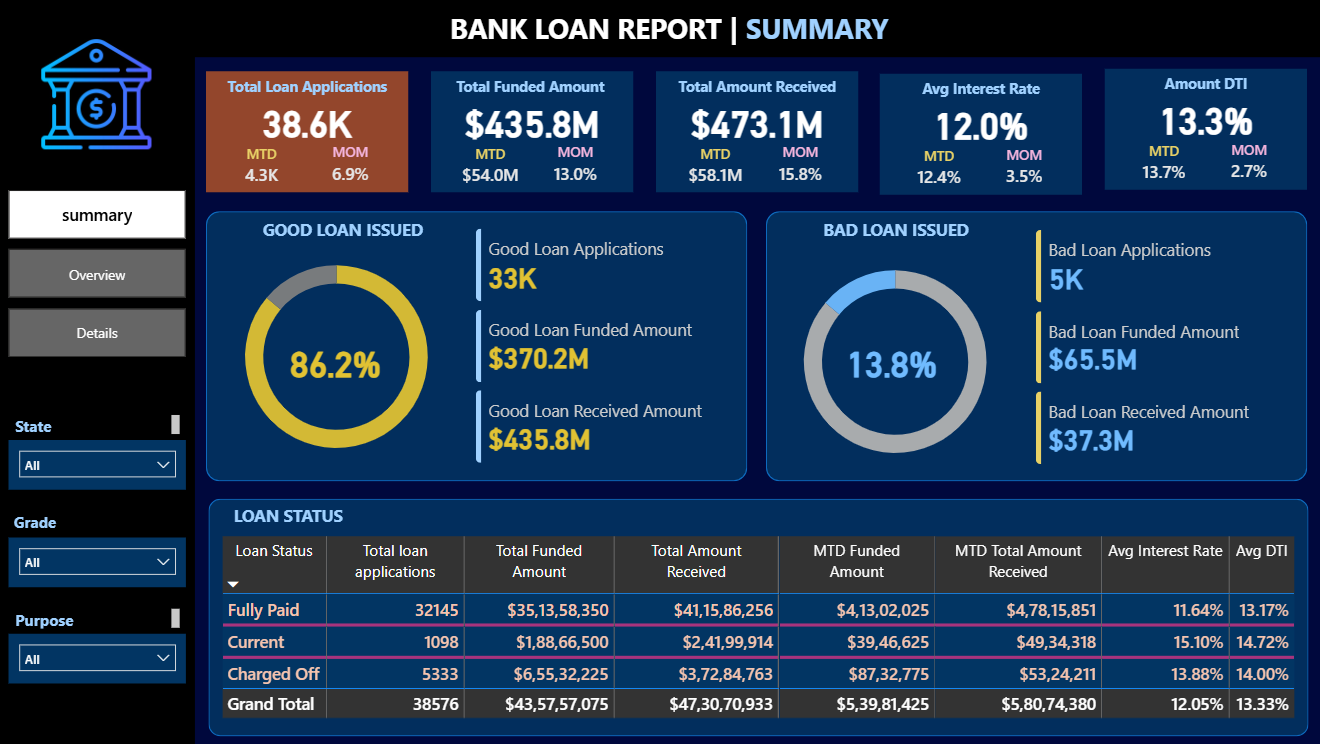

This screenshot's page, from the dashboard's own definition file:
{"tool":"powerbi","page":{"name":"summary","canvas":[1280,720],"ordinal":0},"visuals":[{"type":"textbox","box":[0,54.9,192,665],"z":0},{"type":"textbox","box":[0,0,1280,55.5],"z":1000},{"type":"textbox","box":[433.1,3.6,441.6,47.1],"z":2000},{"type":"textbox","box":[1070.1,66.4,195.4,117],"z":3000,"group":"g5"},{"type":"group","id":"g1","title":"Group 1","box":[202.7,68.8,195.4,117],"z":3000},{"type":"textbox","box":[202.7,68.8,195.4,117],"z":3000,"group":"g1"},{"type":"textbox","box":[419.5,68.8,195.4,117],"z":3000,"group":"g2"},{"type":"textbox","box":[636.4,68.8,195.4,117],"z":3000,"group":"g4"},{"type":"textbox","box":[853.3,71.2,195.4,117],"z":3000,"group":"g3"},{"type":"group","id":"g2","title":"Group 1","box":[419.5,68.8,195.4,117],"z":4000},{"type":"card","fields":{"Values":["bank_loan_data.Avg DTI"]},"box":[1070.1,91.7,195.4,45.8],"z":4000,"group":"g5"},{"type":"card","fields":{"Values":["bank_loan_data.Total loan applications"]},"box":[202.7,94.1,195.4,45.8],"z":4000,"group":"g1"},{"type":"card","fields":{"Values":["bank_loan_data.Total Funded Amount"]},"box":[419.5,94.1,195.4,45.8],"z":4000,"group":"g2"},{"type":"card","fields":{"Values":["bank_loan_data.Total Amount Received"]},"box":[636.4,94.1,195.4,45.8],"z":4000,"group":"g4"},{"type":"card","fields":{"Values":["bank_loan_data.Avg Interest Rate"]},"box":[853.3,96.5,195.4,45.8],"z":4000,"group":"g3"},{"type":"textbox","box":[1070.1,66.4,195.4,30.2],"z":5000,"group":"g5"},{"type":"textbox","box":[202.7,68.8,195.4,30.2],"z":5000,"group":"g1"},{"type":"textbox","box":[419.5,68.8,195.4,30.2],"z":5000,"group":"g2"},{"type":"textbox","box":[636.4,68.8,195.4,30.2],"z":5000,"group":"g4"},{"type":"textbox","box":[853.3,71.2,195.4,30.2],"z":5000,"group":"g3"},{"type":"shape","box":[202.7,203.9,522.4,260.6],"z":5000},{"type":"card","title":"MTD","fields":{"Values":["bank_loan_data.MTD AVG DTI"]},"box":[1091.7,136.7,71.2,45.8],"z":6000,"group":"g5"},{"type":"card","title":"MTD","fields":{"Values":["bank_loan_data.MTD Loan Applications"]},"box":[224.4,138.8,63.9,45.8],"z":6000,"group":"g1"},{"type":"card","title":"MTD","fields":{"Values":["bank_loan_data.MTD Funded Amount"]},"box":[441.1,139.1,71.2,45.8],"z":6000,"group":"g2"},{"type":"card","title":"MTD","fields":{"Values":["bank_loan_data.MTD Total Amount Recieved"]},"box":[658,139.1,71.2,45.8],"z":6000,"group":"g4"},{"type":"card","title":"MTD","fields":{"Values":["bank_loan_data.MTD Avg Interest Rate"]},"box":[874.9,141.5,71.2,45.8],"z":6000,"group":"g3"},{"type":"textbox","box":[12.4,488.6,170.1,30.2],"z":6000},{"type":"card","title":"MOM","fields":{"Values":["bank_loan_data.MOM AVG DTI"]},"box":[1181.1,135.2,56.7,47.1],"z":7000,"group":"g5"},{"type":"card","title":"MOM","fields":{"Values":["bank_loan_data.MOM Loan Application"]},"box":[313.7,137.6,56.7,47.1],"z":7000,"group":"g1"},{"type":"card","title":"MOM","fields":{"Values":["bank_loan_data.MOM Total Funded Amount"]},"box":[530.5,137.6,56.7,47.1],"z":7000,"group":"g2"},{"type":"card","title":"MOM","fields":{"Values":["bank_loan_data.MOM Total Amount Recieved"]},"box":[747.4,137.6,56.7,47.1],"z":7000,"group":"g4"},{"type":"card","title":"MOM","fields":{"Values":["bank_loan_data.MOM Avg Interest Rate"]},"box":[964.3,140,56.7,47.1],"z":7000,"group":"g3"},{"type":"textbox","box":[13,395.7,168.9,29],"z":7000},{"type":"card","fields":{"Values":["bank_loan_data.Good Loan %"]},"box":[267.8,323.3,119.4,53.1],"z":8000},{"type":"textbox","box":[203.9,205.1,261.8,39.8],"z":9000},{"type":"group","id":"g3","title":"Group 1","box":[853.3,71.2,195.4,117],"z":10000},{"type":"group","id":"g4","title":"Group 1","box":[636.4,68.8,195.4,117],"z":11000},{"type":"group","id":"g5","title":"Group 1","box":[1070.1,66.4,195.4,117],"z":12000},{"type":"donutChart","fields":{"Category":["bank_loan_data.Good VS Bad Loan"],"Y":["bank_loan_data.Total loan applications"]},"box":[203.9,229.2,249.7,230.4],"z":13000},{"type":"shape","box":[743.2,203.9,522.4,260.6],"z":14000},{"type":"cardVisual","fields":{"Data":["bank_loan_data.Good Loan Applications","bank_loan_data.Good Loan Funded Amount","bank_loan_data.Good Loan Received Amount"]},"box":[446.4,203.9,278.7,260.6],"z":15000},{"type":"donutChart","fields":{"Category":["bank_loan_data.Good VS Bad Loan"],"Y":["bank_loan_data.Total loan applications"]},"box":[743.2,234,249.7,230.4],"z":16000},{"type":"shape","box":[205.1,481.4,1061.7,229.2],"z":17000},{"type":"textbox","box":[744.4,205.1,248.5,42.2],"z":18000},{"type":"card","fields":{"Values":["bank_loan_data.BAD Loan %"]},"box":[804.7,323.3,119.4,53.1],"z":19000},{"type":"cardVisual","fields":{"Data":["bank_loan_data.Bad Loan Applications","bank_loan_data.Bad Loan Funded Amount","bank_loan_data.Bad Loan Received Amount"]},"box":[986.9,205.1,278.7,260.6],"z":20000},{"type":"tableEx","fields":{"Values":["bank_loan_data.loan_status","bank_loan_data.Total loan applications","bank_loan_data.Total Funded Amount","bank_loan_data.Total Amount Received","bank_loan_data.MTD Funded Amount","bank_loan_data.MTD Total Amount Received","bank_loan_data.Avg Interest Rate","bank_loan_data.Avg DTI"]},"box":[212.3,512.7,1046,197.9],"z":21000},{"type":"textbox","box":[224.4,481.4,1033.9,31.4],"z":22000},{"type":"slicer","fields":{"Values":["bank_loan_data.address_state"]},"box":[11.8,424.7,171.3,48.3],"z":23000},{"type":"slicer","fields":{"Values":["bank_loan_data.grade"]},"box":[11.8,518.8,171.3,48.3],"z":24000},{"type":"textbox","box":[13,582.7,168.9,29],"z":25000},{"type":"slicer","fields":{"Values":["bank_loan_data.purpose"]},"box":[11.8,611.7,171.3,48.3],"z":26000},{"type":"image","box":[12.4,30.2,170.1,121.9],"z":27000},{"type":"pageNavigator","box":[12.1,183.4,171.3,161.7],"z":28000}]}

Visuals, with their boxes in screenshot pixels (x1, y1, x2, y2), scaled from the page's 1280x720 canvas onto the 1320x744 screenshot:
textbox: [left=0, top=57, right=198, bottom=743]
textbox: [left=0, top=0, right=1319, bottom=57]
textbox: [left=447, top=4, right=902, bottom=52]
textbox: [left=1104, top=69, right=1305, bottom=190]
"Group 1" group: [left=209, top=71, right=411, bottom=192]
textbox: [left=209, top=71, right=411, bottom=192]
textbox: [left=433, top=71, right=634, bottom=192]
textbox: [left=656, top=71, right=858, bottom=192]
textbox: [left=880, top=74, right=1081, bottom=194]
"Group 1" group: [left=433, top=71, right=634, bottom=192]
card - bank_loan_data.Avg DTI: [left=1104, top=95, right=1305, bottom=142]
card - bank_loan_data.Total loan applications: [left=209, top=97, right=411, bottom=145]
card - bank_loan_data.Total Funded Amount: [left=433, top=97, right=634, bottom=145]
card - bank_loan_data.Total Amount Received: [left=656, top=97, right=858, bottom=145]
card - bank_loan_data.Avg Interest Rate: [left=880, top=100, right=1081, bottom=147]
textbox: [left=1104, top=69, right=1305, bottom=100]
textbox: [left=209, top=71, right=411, bottom=102]
textbox: [left=433, top=71, right=634, bottom=102]
textbox: [left=656, top=71, right=858, bottom=102]
textbox: [left=880, top=74, right=1081, bottom=105]
shape: [left=209, top=211, right=748, bottom=480]
"MTD" card: [left=1126, top=141, right=1199, bottom=189]
"MTD" card: [left=231, top=143, right=297, bottom=191]
"MTD" card: [left=455, top=144, right=528, bottom=191]
"MTD" card: [left=679, top=144, right=752, bottom=191]
"MTD" card: [left=902, top=146, right=976, bottom=194]
textbox: [left=13, top=505, right=188, bottom=536]
"MOM" card: [left=1218, top=140, right=1276, bottom=188]
"MOM" card: [left=324, top=142, right=382, bottom=191]
"MOM" card: [left=547, top=142, right=606, bottom=191]
"MOM" card: [left=771, top=142, right=829, bottom=191]
"MOM" card: [left=994, top=145, right=1053, bottom=193]
textbox: [left=13, top=409, right=188, bottom=439]
card - bank_loan_data.Good Loan %: [left=276, top=334, right=399, bottom=389]
textbox: [left=210, top=212, right=480, bottom=253]
"Group 1" group: [left=880, top=74, right=1081, bottom=194]
"Group 1" group: [left=656, top=71, right=858, bottom=192]
"Group 1" group: [left=1104, top=69, right=1305, bottom=190]
donutChart - bank_loan_data.Good VS Bad Loan x bank_loan_data.Total loan applications: [left=210, top=237, right=468, bottom=475]
shape: [left=766, top=211, right=1305, bottom=480]
cardVisual - bank_loan_data.Good Loan Applications x bank_loan_data.Good Loan Funded Amount: [left=460, top=211, right=748, bottom=480]
donutChart - bank_loan_data.Good VS Bad Loan x bank_loan_data.Total loan applications: [left=766, top=242, right=1024, bottom=480]
shape: [left=212, top=497, right=1306, bottom=734]
textbox: [left=768, top=212, right=1024, bottom=256]
card - bank_loan_data.BAD Loan %: [left=830, top=334, right=953, bottom=389]
cardVisual - bank_loan_data.Bad Loan Applications x bank_loan_data.Bad Loan Funded Amount: [left=1018, top=212, right=1305, bottom=481]
tableEx - bank_loan_data.loan_status x bank_loan_data.Total loan applications: [left=219, top=530, right=1298, bottom=734]
textbox: [left=231, top=497, right=1298, bottom=530]
slicer - bank_loan_data.address_state: [left=12, top=439, right=189, bottom=489]
slicer - bank_loan_data.grade: [left=12, top=536, right=189, bottom=586]
textbox: [left=13, top=602, right=188, bottom=632]
slicer - bank_loan_data.purpose: [left=12, top=632, right=189, bottom=682]
image: [left=13, top=31, right=188, bottom=157]
pageNavigator: [left=12, top=190, right=189, bottom=357]
